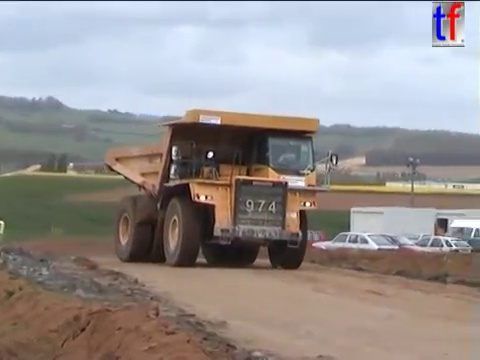truck: (102, 106, 340, 271)
worker: (1, 214, 6, 239)
